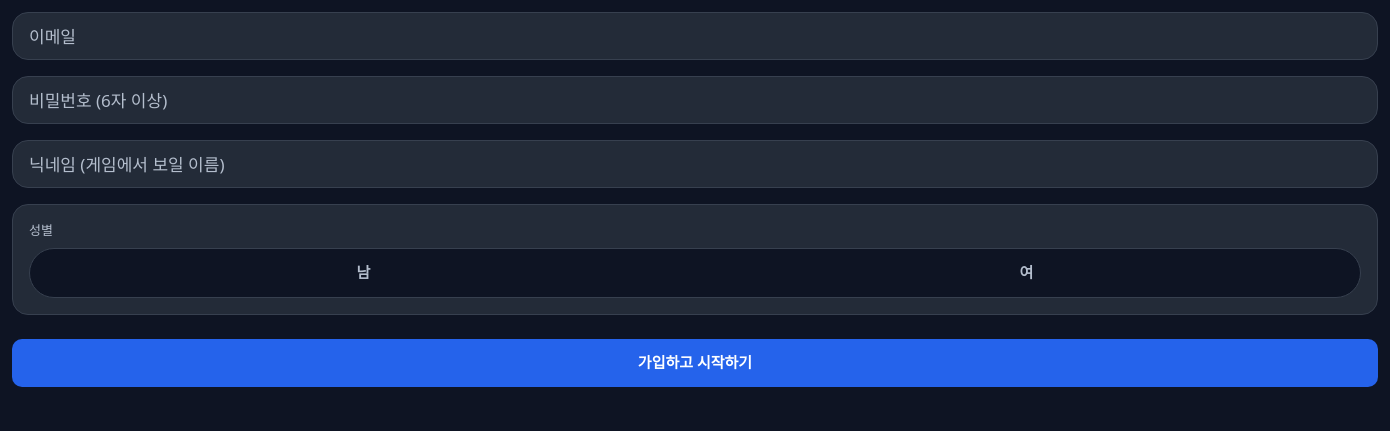
Scenario: SignupForm › 이메일 필드에서 벗어나면(blur) 형식 오류를 즉시 보여준다
The image size is (1390, 431).
Type "not-an-email" into the field with id "signup-email" at (695, 36), box [12,12,1378,60]
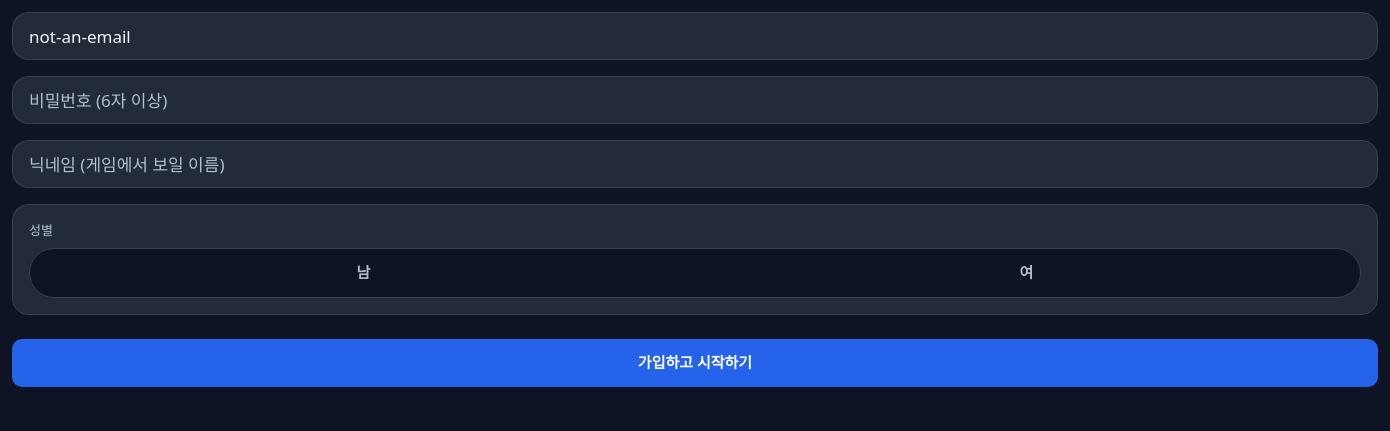
Leave the field with id "signup-email", box [12,12,1378,60]
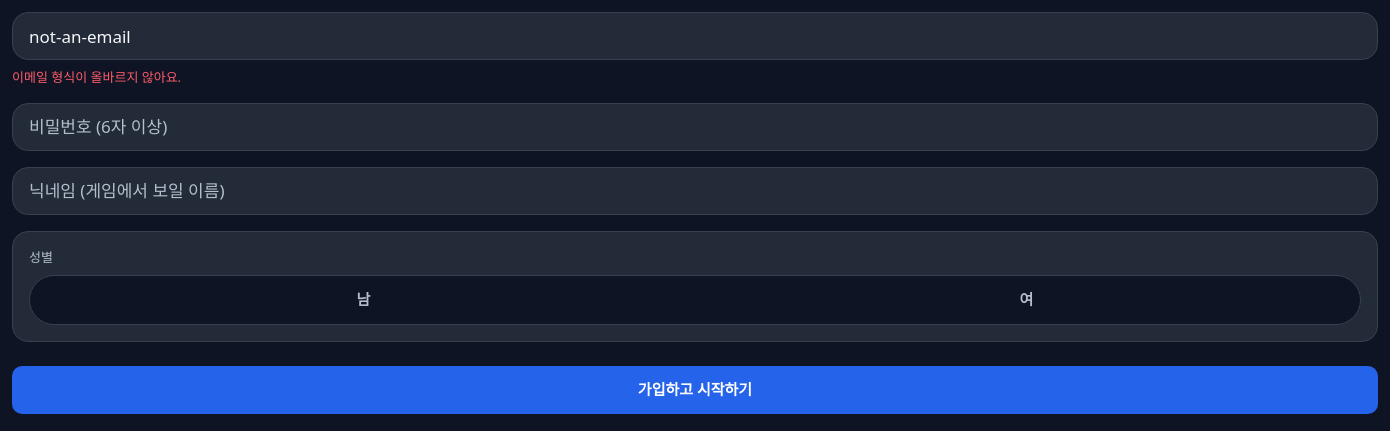
Check: the form shows "이메일 형식이 올바르지 않아요.", box [12,68,181,86]
